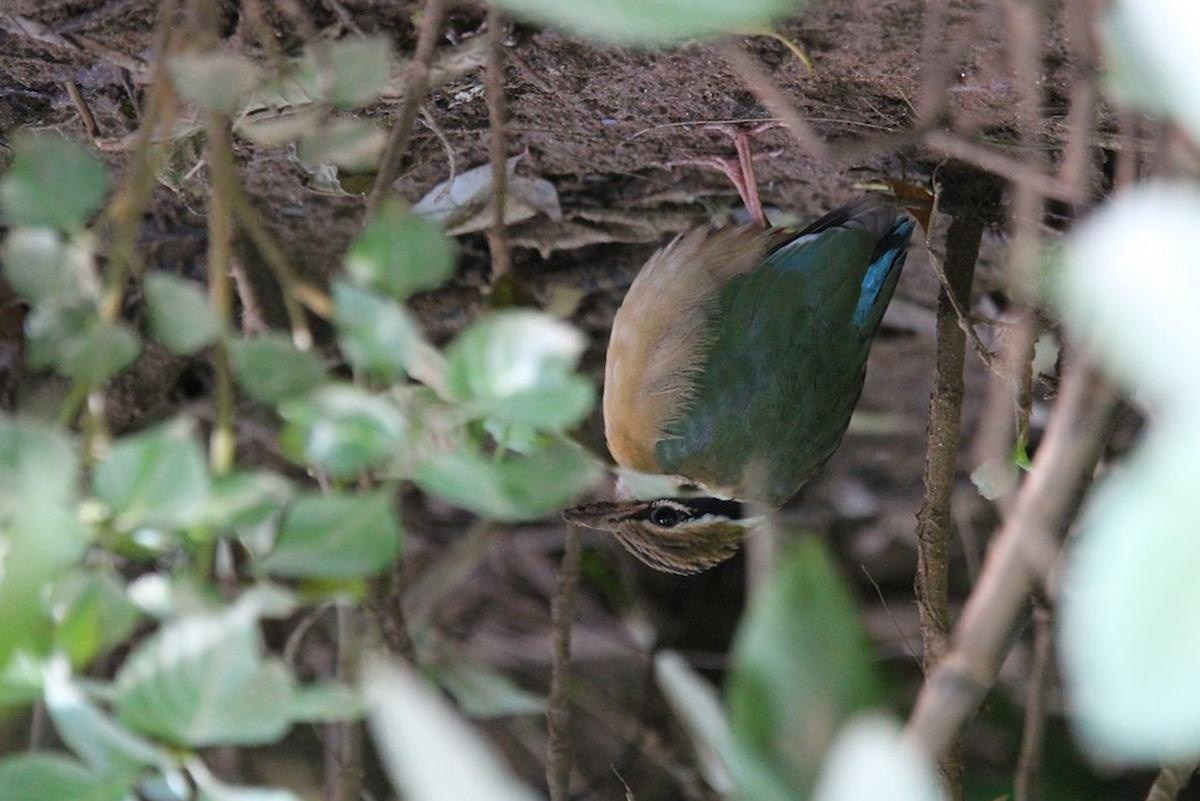pitta: (503, 173, 938, 574)
